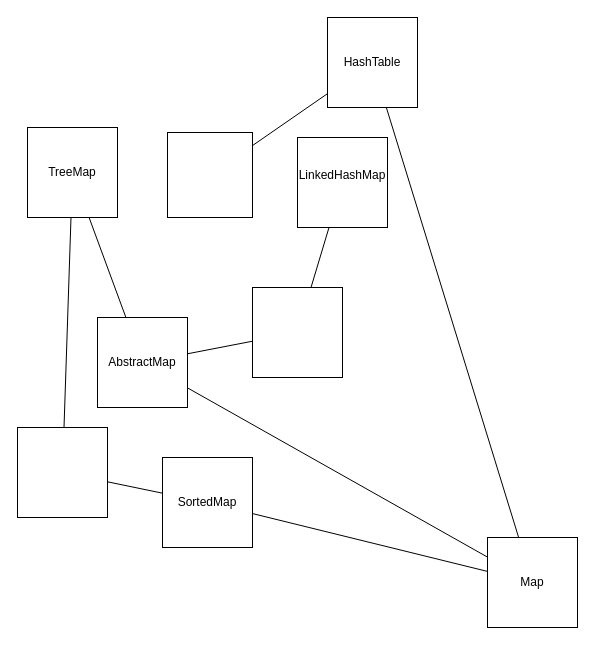
Image size: 595x645. Some labels were removed from this diagram. The shapes that lost their labels are listed below. From the top down, each one's box as (x1, y1, x2, y2) in pixels, then its label:
(166, 132, 252, 218): Dictionnary
(252, 286, 342, 378): HashMap
(16, 426, 108, 518): NavigableMap
